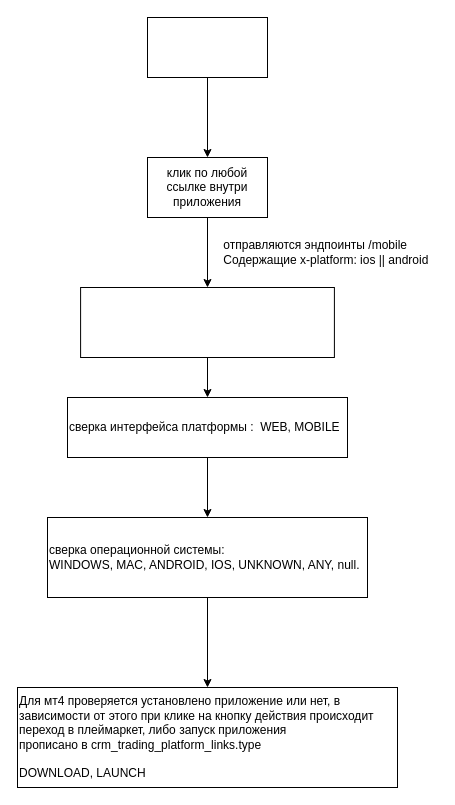
This 455x805 diagram has some shape labels left out. The shapes that lost their labels are listed below. From the top down, each one's centre as x and y in pixels, then its label:
pixel 207 47: запуск приложения
pixel 207 322: происходит сверка по тегам присовеным эндпоинтами: ios, android, mobile_app
